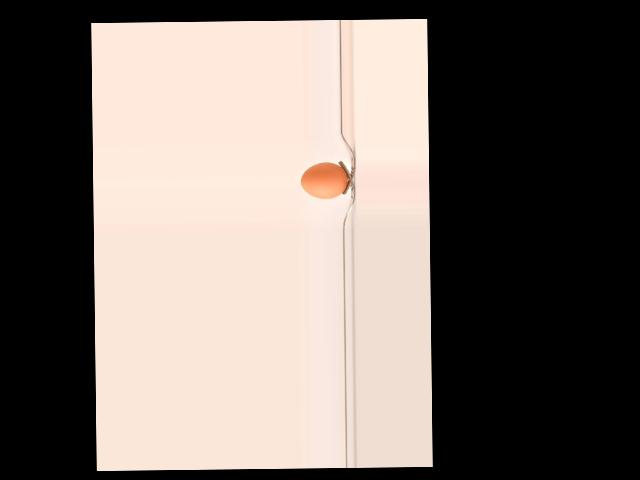egg: (301, 162, 348, 199)
